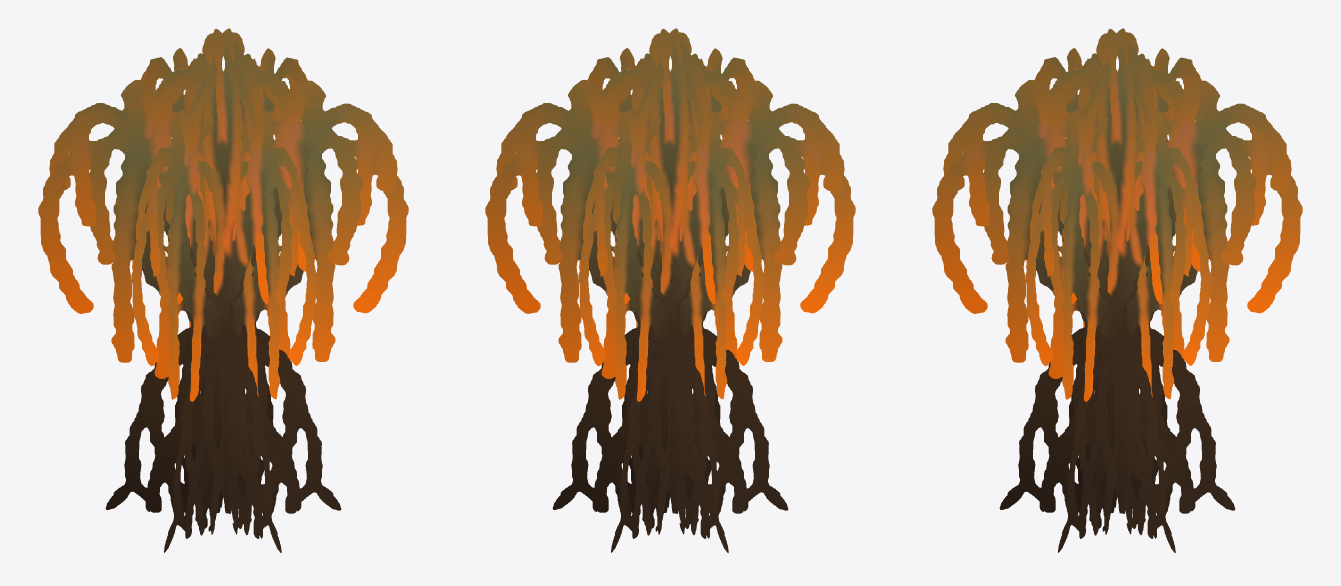
File: painted-weed-083.glb
The picture shows the model from 3 angles, left to right: view 1: azimuth 30°, elevation 25°; view 2: azimuth 150°, elevation 25°; view 3: azimuth 270°, elevation 25°; orthographic projection.
Bounding box in the file's own units: 6.22 × 10.09 × 7.17.
1 material, 1 textured.
